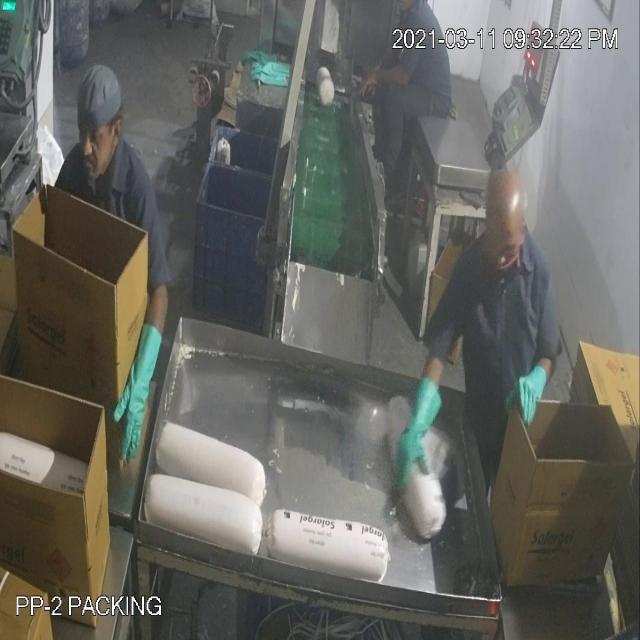Gloves: (46, 78, 526, 434)
